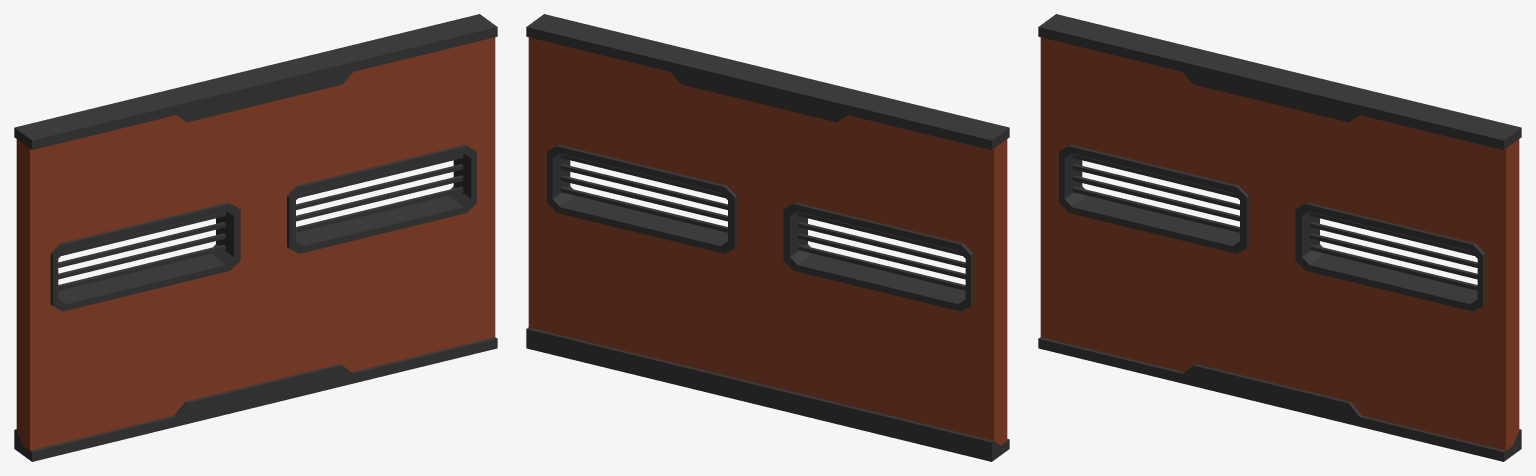
Rendered from SM_BuildingPart_31.fbx.
3 views of the same model, side by side, from view 1: azimuth 30°, elevation 25°; view 2: azimuth 150°, elevation 25°; view 3: azimuth 330°, elevation 25° (orthographic).
Visible parts, largest first — view 1: SM_BuildingPart_31; view 2: SM_BuildingPart_31; view 3: SM_BuildingPart_31.
Boxes of the visible parts, x1,y1,x2,y2 form: SM_BuildingPart_31: (14,14,497,461); SM_BuildingPart_31: (526,14,1009,461); SM_BuildingPart_31: (1038,14,1521,461).
Size of the model in its own units: 500 by 330 by 33.18.
